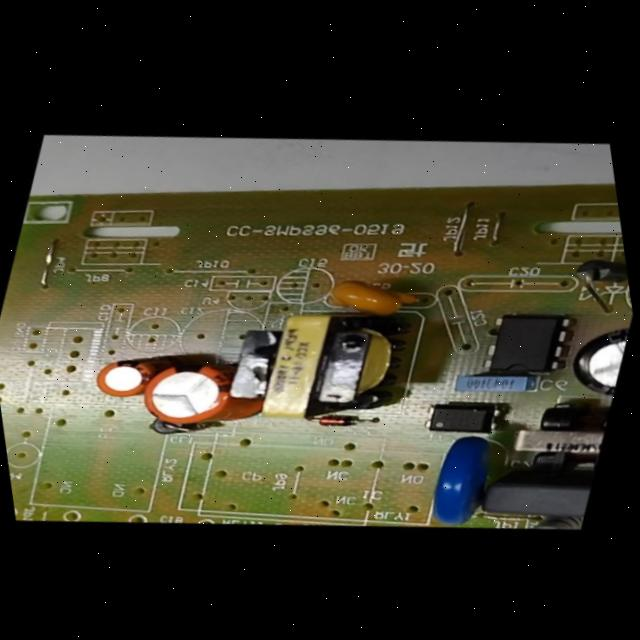Cap1: (130, 351, 248, 438)
Cap2: (87, 351, 161, 406)
Cap3: (555, 320, 633, 402)
MOSFET: (475, 304, 580, 384)
Mov: (413, 428, 503, 532)
Resistor: (529, 508, 586, 538)
Transformer: (208, 287, 429, 446), (499, 390, 622, 489)
